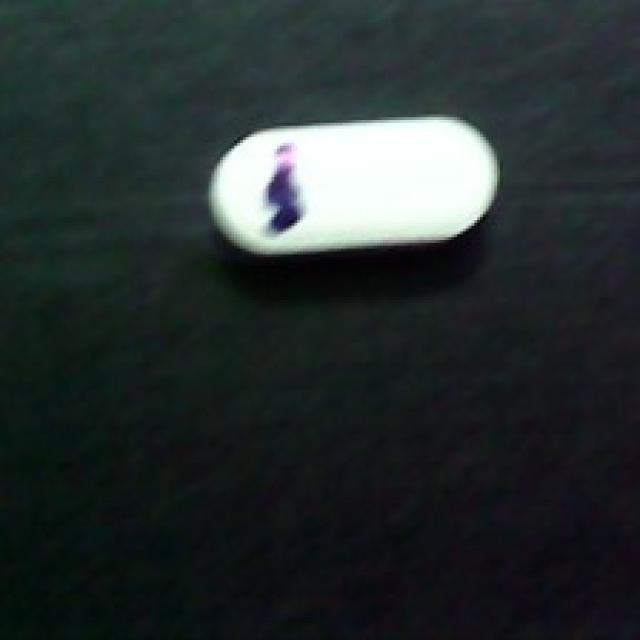defected: (206, 106, 509, 260)
